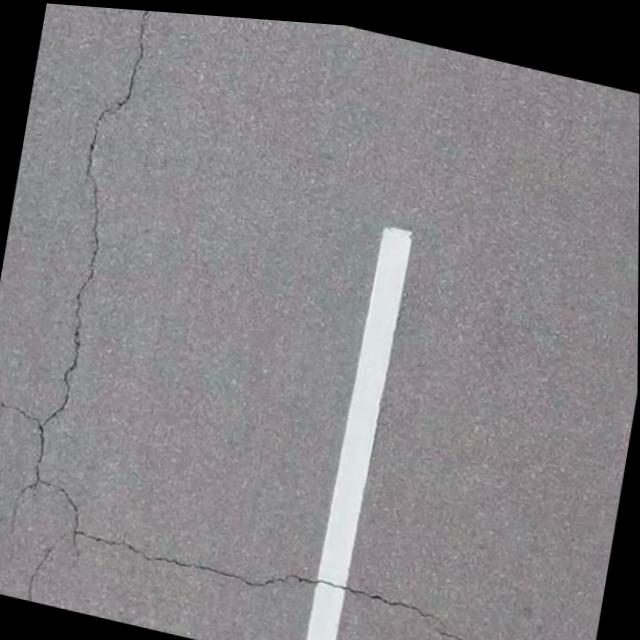Crack: (2, 0, 182, 547), (97, 515, 471, 640)
